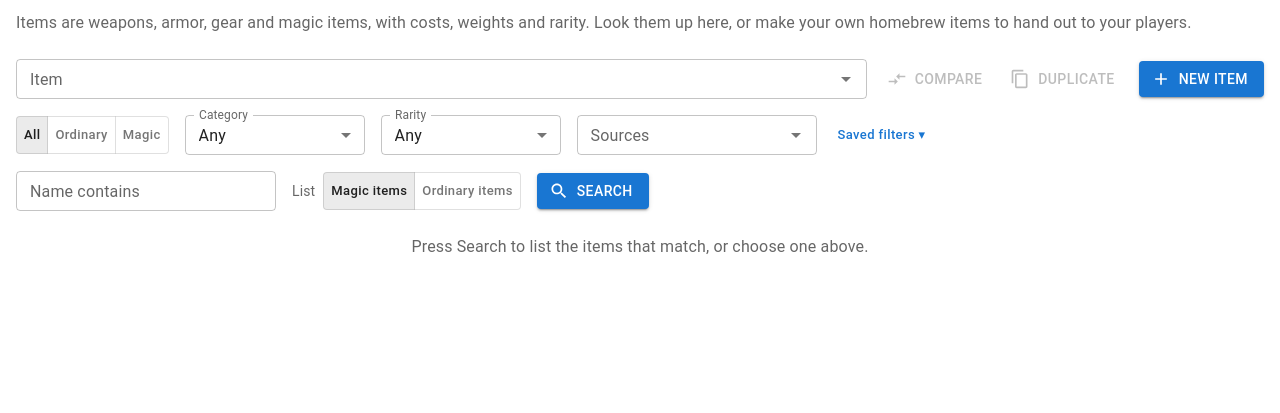
Scenario: listing items as a table › opens an item from the table, and goes back to the results
Click the button "Search" at [593, 191], box 537,173 -> 649,209
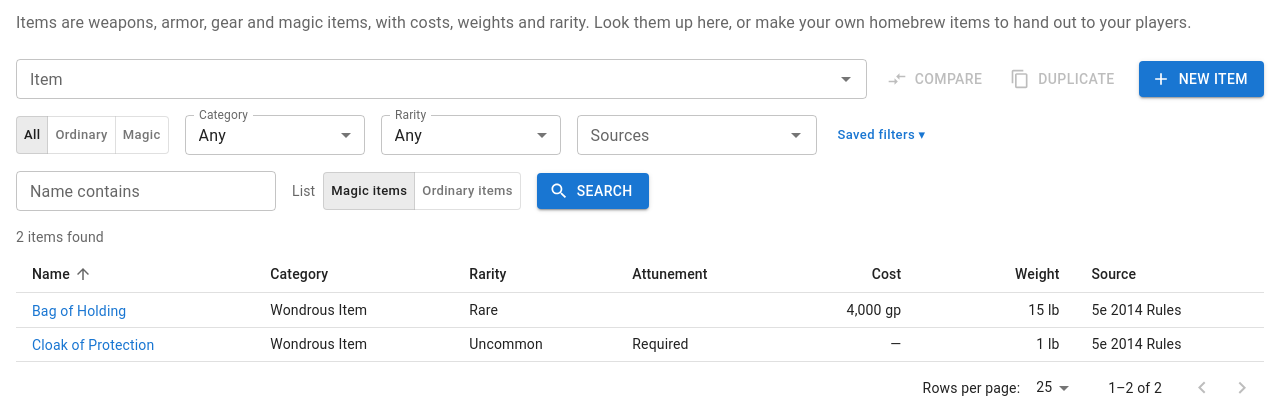
Expected: the table named "Item results" is shown, 16,255 -> 1264,362
Click the button with aria-label "Open Bag of Holding" at [79, 311], box 32,301 -> 126,321
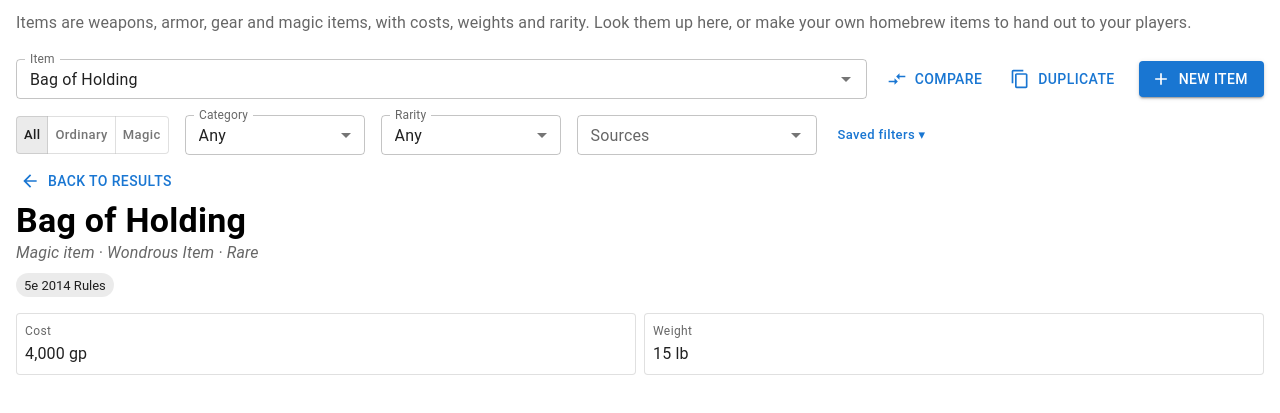
Expected: the heading "Bag of Holding" is shown, 16,200 -> 246,240
Click the button "Back to results" at [98, 181], box 16,163 -> 180,200
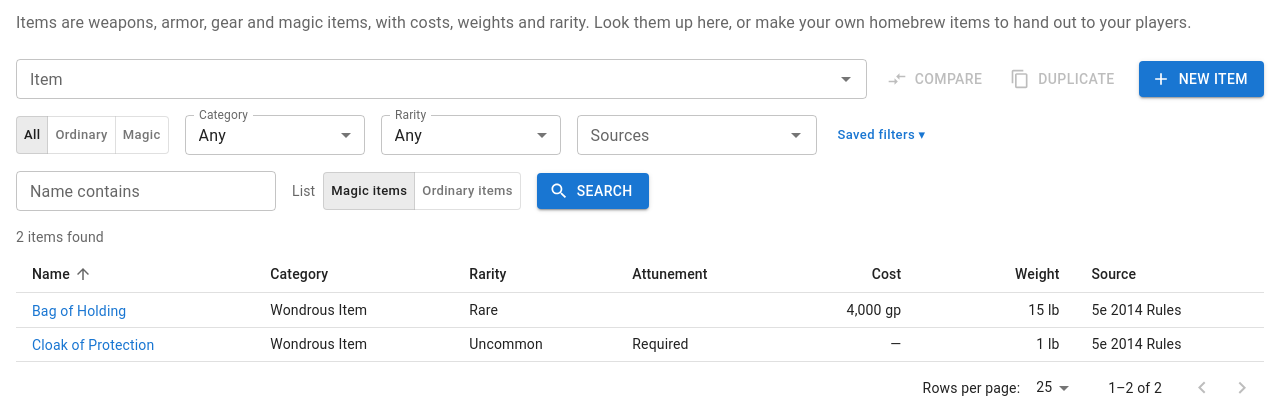
Expected: the table named "Item results" is shown, 16,255 -> 1264,362
